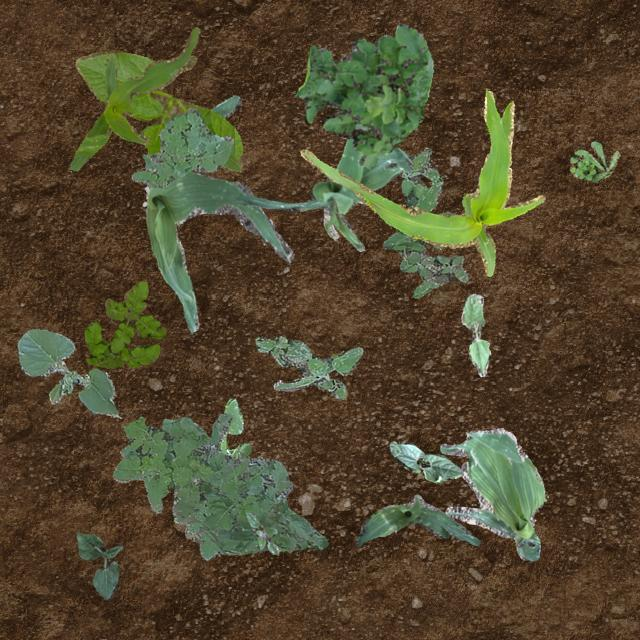crop: (298, 89, 544, 275), (142, 95, 292, 332), (235, 136, 412, 250), (75, 50, 242, 170), (68, 26, 200, 170), (438, 426, 546, 560), (17, 328, 119, 418), (354, 494, 478, 546), (75, 532, 122, 598), (388, 441, 461, 482), (460, 292, 490, 376)
weed: (111, 412, 328, 558), (294, 22, 432, 166), (382, 146, 468, 296), (130, 106, 232, 188), (84, 280, 165, 368), (255, 334, 362, 398), (568, 140, 618, 182), (218, 398, 250, 458), (244, 511, 278, 554)
